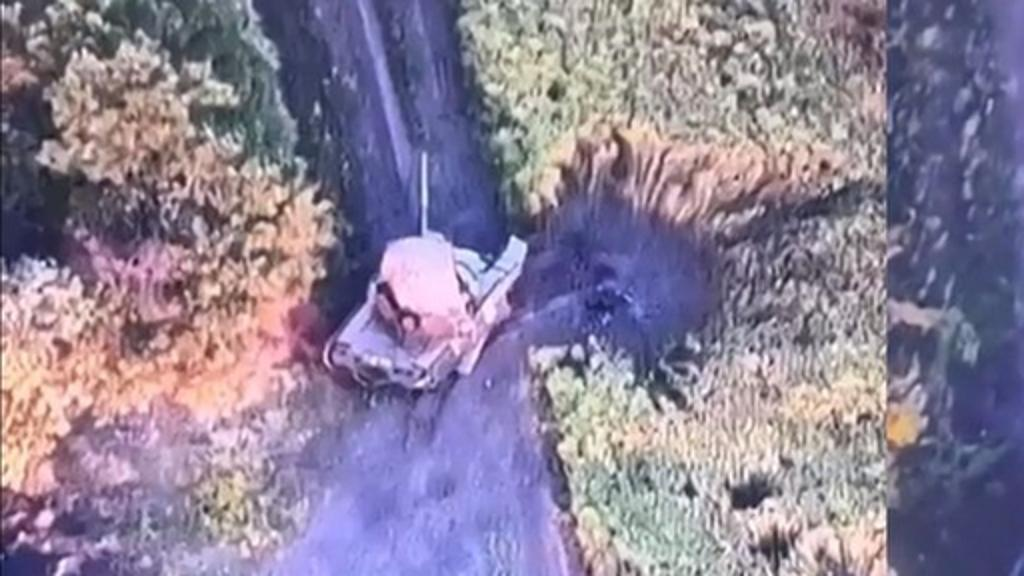TANK: (320, 146, 530, 404)
